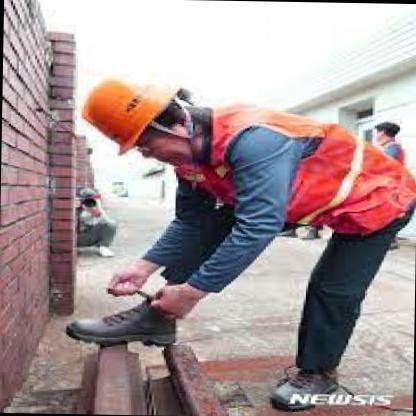Helmet: (71, 66, 184, 151)
safety-shoe: (68, 293, 192, 363), (247, 362, 355, 414)
